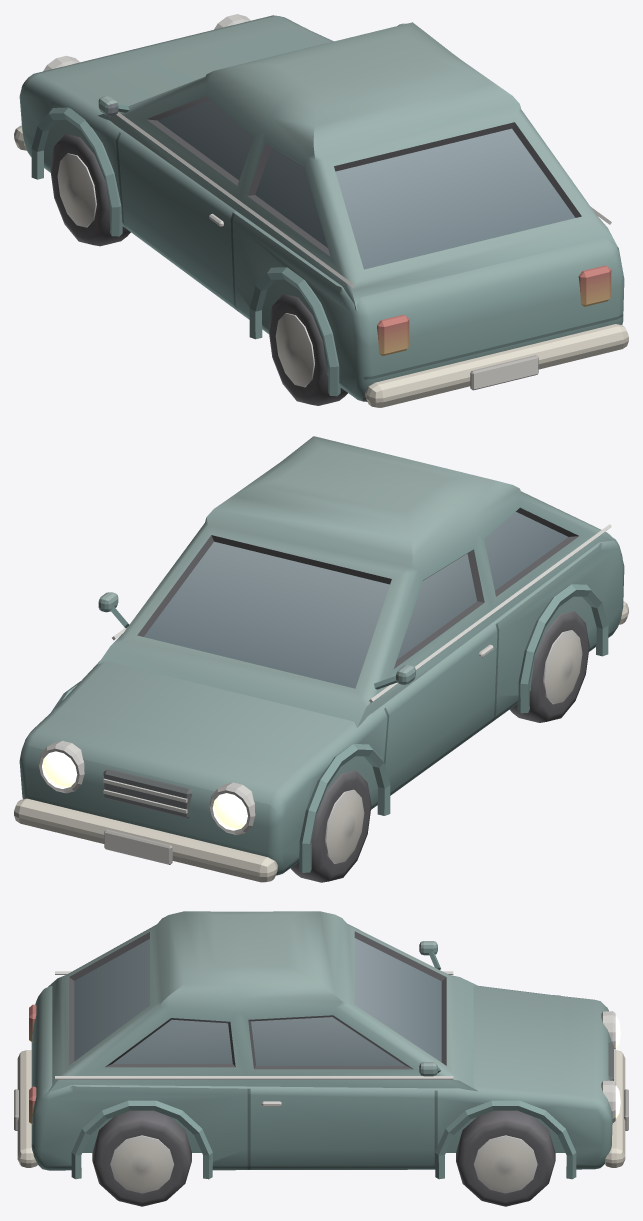
The model's file is car.glb.
The picture shows the model from 3 angles, top to bottom: view 1: azimuth 30°, elevation 25°; view 2: azimuth 150°, elevation 25°; view 3: azimuth 270°, elevation 25°; orthographic projection. The views are drawn at different scales.
Visible parts, largest first — view 1: car; view 2: car; view 3: car.
Boxes of the visible parts, left/top/right/bottom form: car: left=14, top=14, right=628, bottom=407; car: left=14, top=436, right=628, bottom=882; car: left=14, top=911, right=628, bottom=1206.
Size of the model in its own units: 1.2 by 0.9499 by 2.47.
